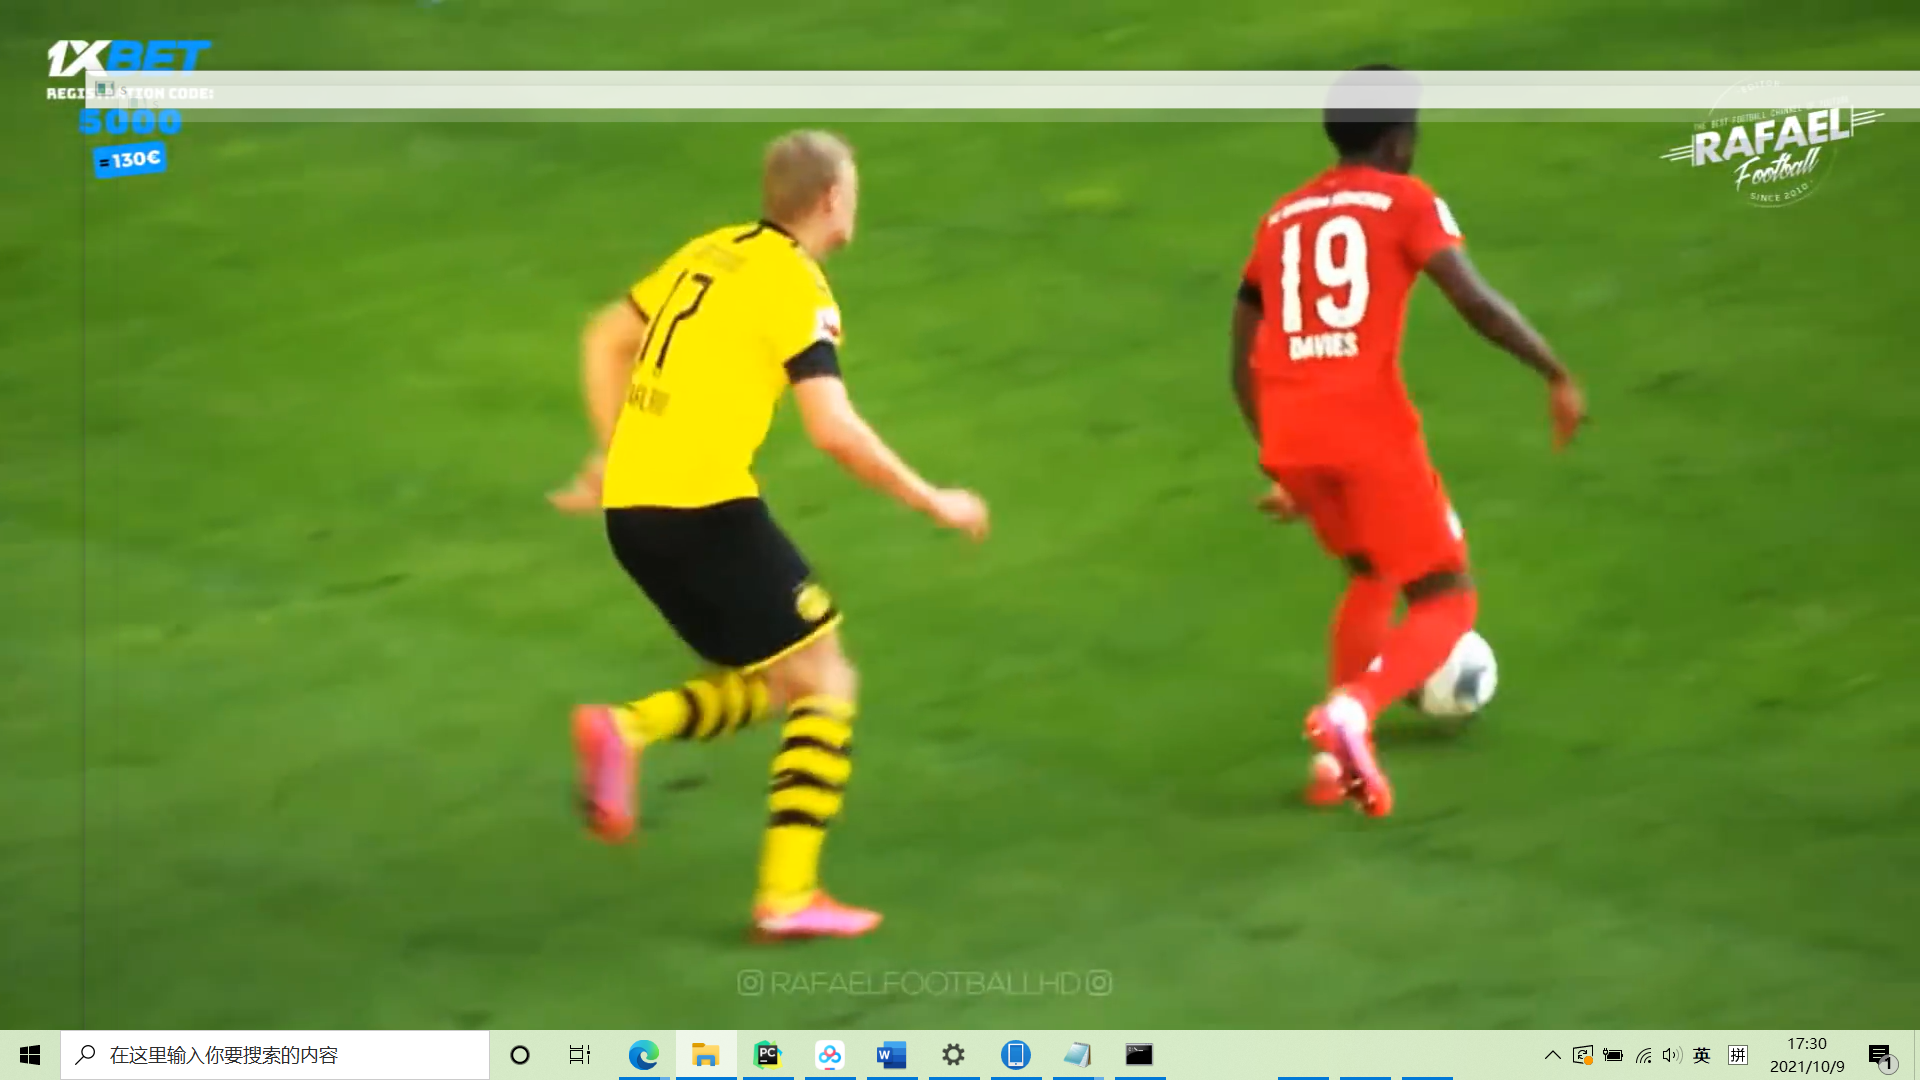ft: (1404, 632, 1506, 729)
